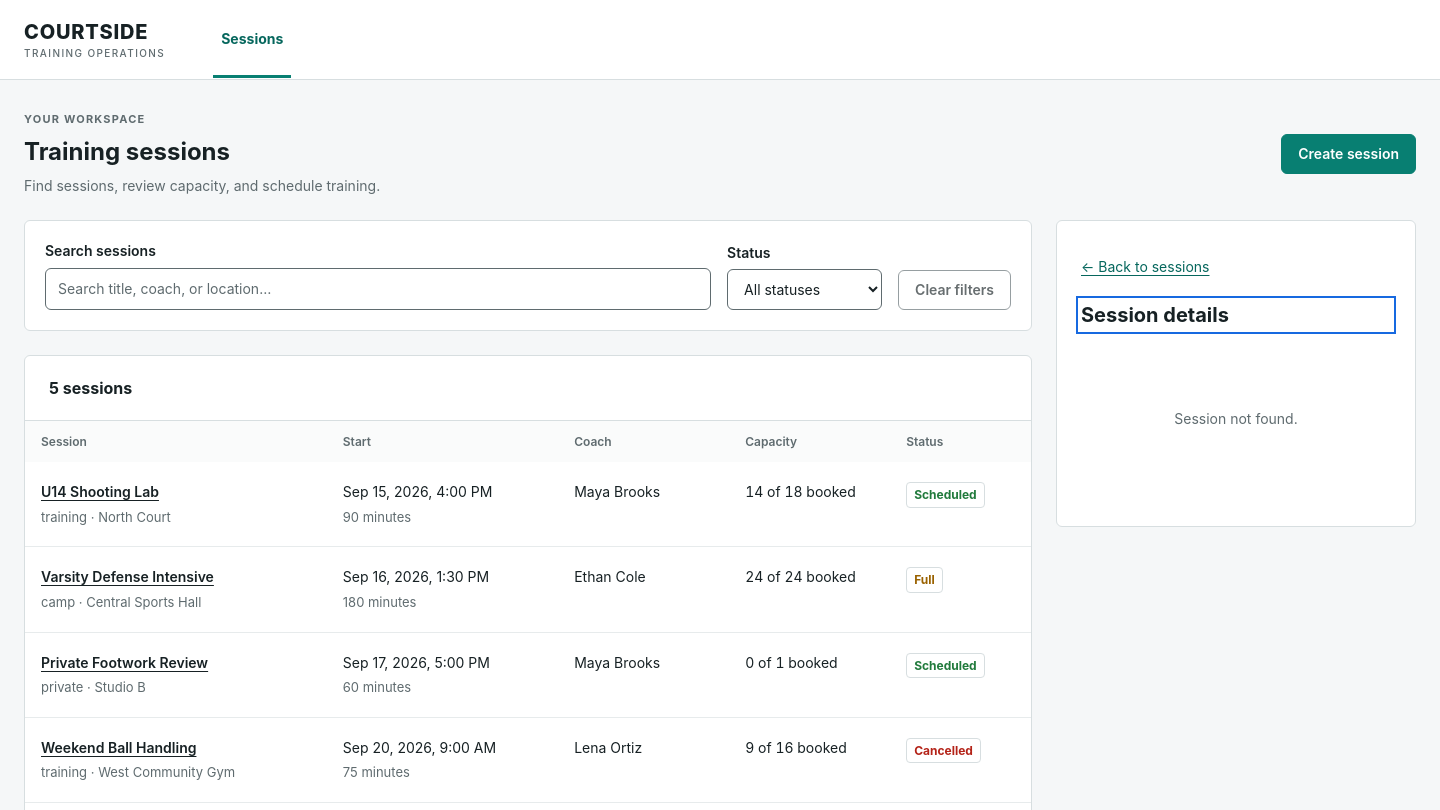
Scenario: recovers from an unknown session deep link by returning to the list and opening a valid session
The width and height of the screenshot is (1440, 810).
expect the message reads "Session not found.": met, box 1174,410 -> 1298,427
Click the link "← Back to sessions".
click(1145, 267)  # box 1081,258 -> 1210,275
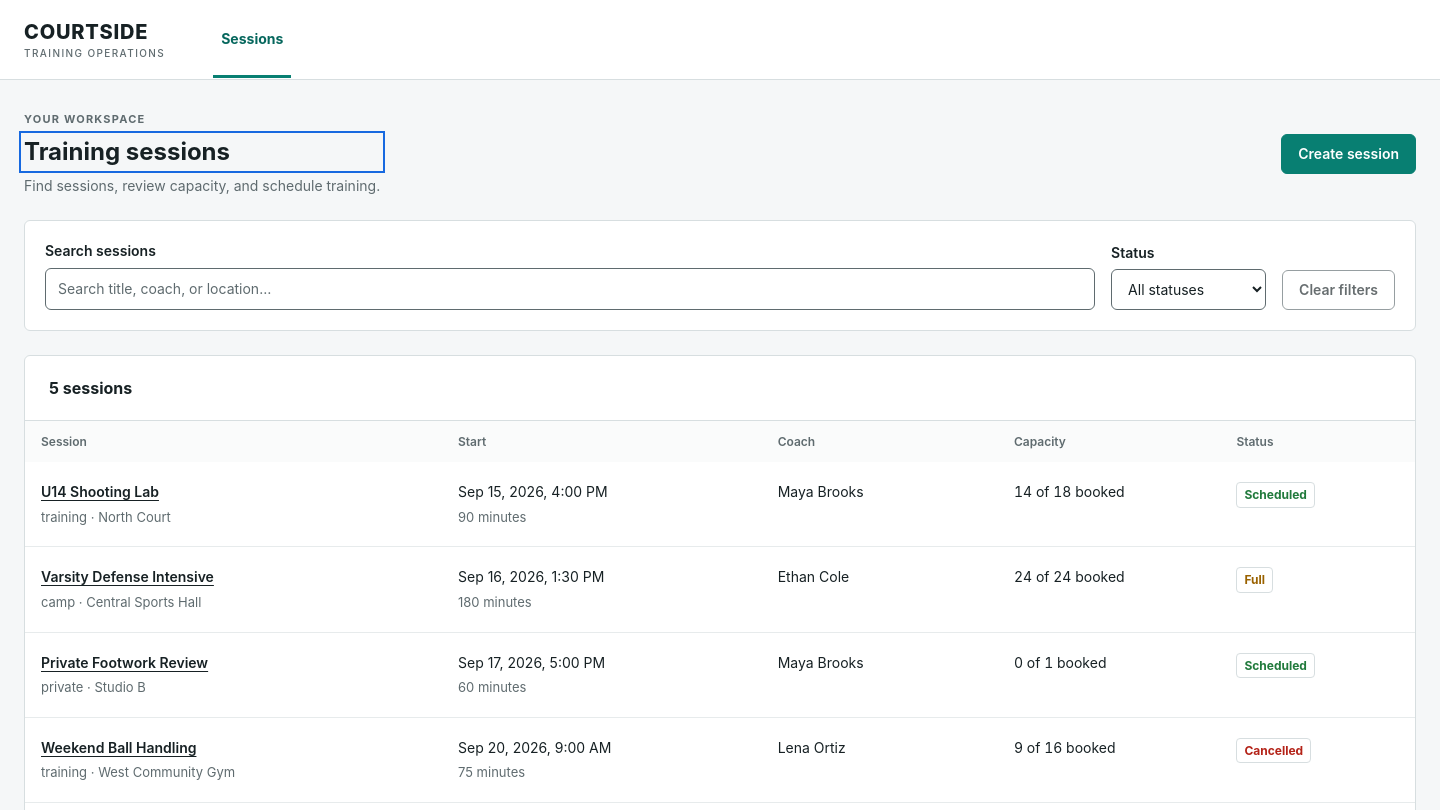
expect the heading "5 sessions" is shown: met, box 25,356 -> 1415,421
Click the link "U14 Shooting Lab".
click(100, 492)  # box 41,483 -> 159,500
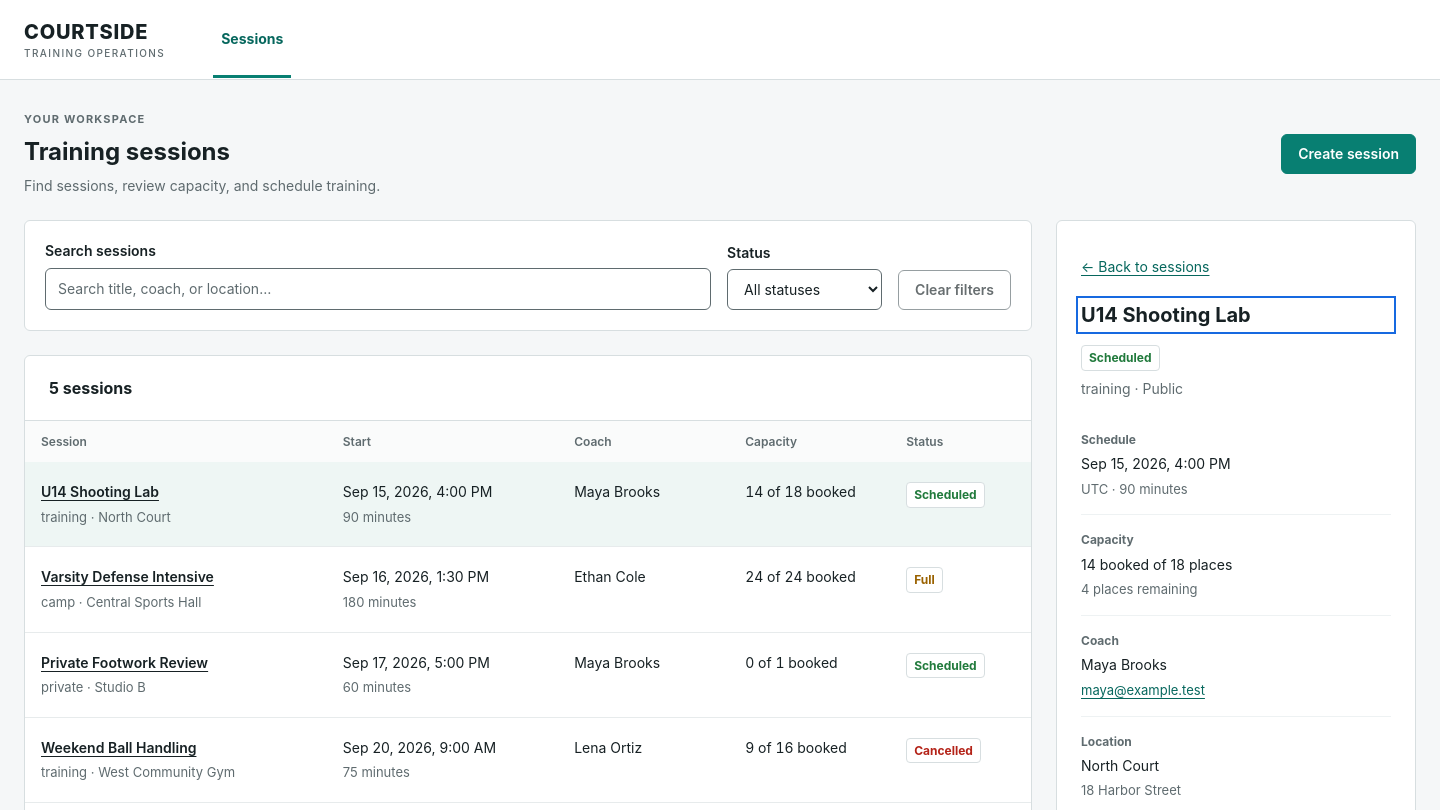
expect the text "Session not found." is not shown: met
expect the link "maya@example.test" is shown: met, box 1081,682 -> 1205,698
